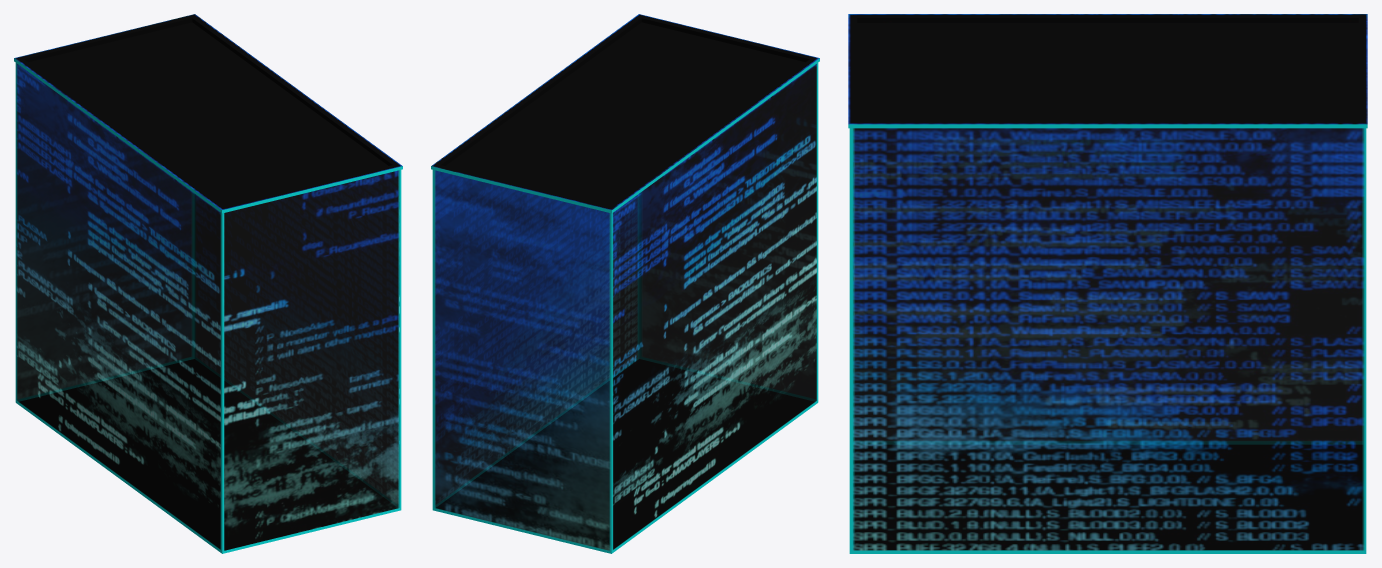
The model's file is aqua.obj.
3 renders of one model, left to right at view 1: azimuth 30°, elevation 25°; view 2: azimuth 150°, elevation 25°; view 3: azimuth 270°, elevation 25°, orthographic. The views are drawn at different scales.
Parts seen in each view (by area): view 1: Plane; view 2: Plane; view 3: Plane.
Boxes of the visible parts, x1=… form: Plane: x1=14, y1=14, x2=402, y2=553; Plane: x1=431, y1=14, x2=819, y2=553; Plane: x1=848, y1=14, x2=1367, y2=553.
Bounding box in the file's own units: 60.59 × 110 × 121.
Materials: 3 (3 with a texture image).
